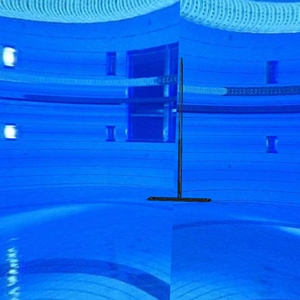circle: (148, 57, 212, 203)
